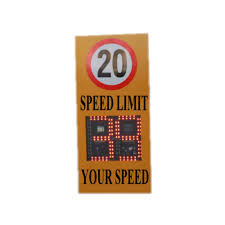sp20: (84, 40, 144, 92)
